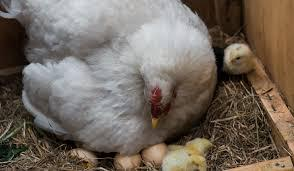egg: (144, 140, 166, 168)
